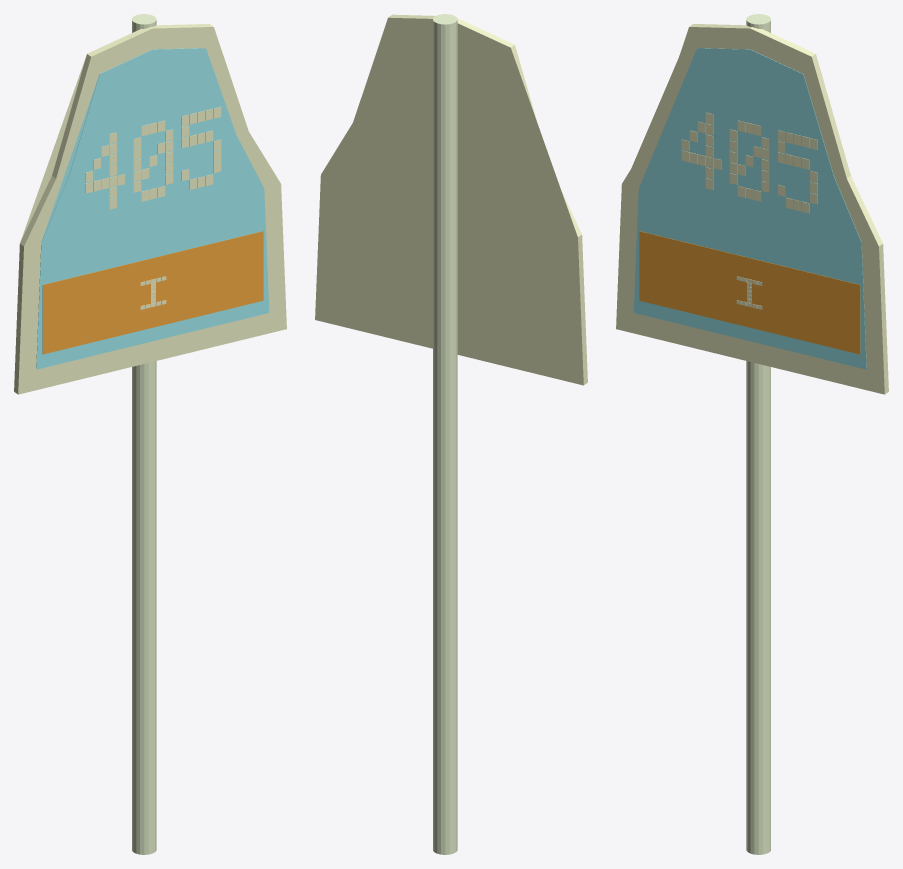
The model's file is sign_route_interstate_405_shield.glb.
The picture shows the model from 3 angles, left to right: view 1: azimuth 30°, elevation 25°; view 2: azimuth 150°, elevation 25°; view 3: azimuth 330°, elevation 25°; orthographic projection.
Parts seen in each view (by area): view 1: layer_1_00, plate_base_00, layer_2_00, pole; view 2: plate_base_00, pole; view 3: layer_1_00, plate_base_00, layer_2_00, pole.
Boxes of the visible parts, x1,y1,x2,y2 form: layer_1_00: (36,48,269,369); plate_base_00: (14,24,286,394); layer_2_00: (42,231,263,354); pole: (132,14,156,854); plate_base_00: (315,14,587,385); pole: (433,14,457,854); layer_1_00: (633,48,866,369); plate_base_00: (616,24,888,394); layer_2_00: (639,231,860,354); pole: (746,14,770,854).
Bounding box in the file's own units: 0.7452 × 2.2 × 0.074.
